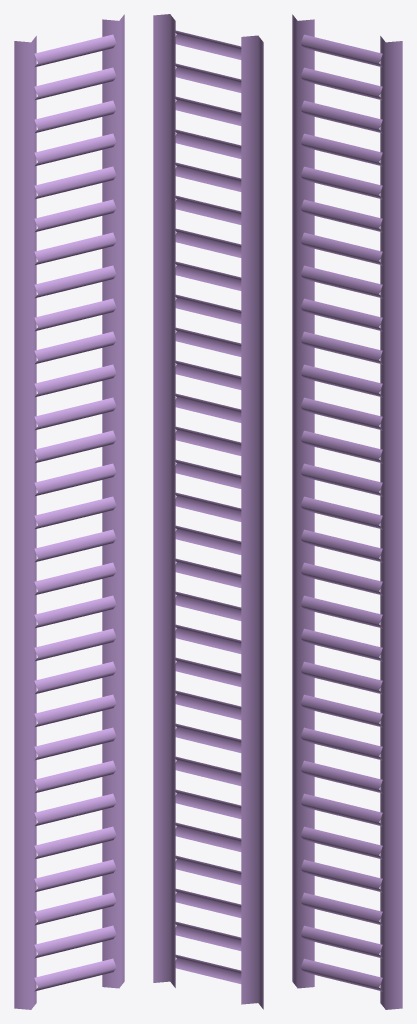
Rendered from G_Background_Ladder_A.fbx.
3 renders of one model, left to right at view 1: azimuth 30°, elevation 25°; view 2: azimuth 150°, elevation 25°; view 3: azimuth 330°, elevation 25°, orthographic.
Parts seen in each view (by area): view 1: G_Background_Ladder_A; view 2: G_Background_Ladder_A; view 3: G_Background_Ladder_A.
Part boxes in pixels (left/top/right/bottom): G_Background_Ladder_A: left=14, top=14, right=124, bottom=1009; G_Background_Ladder_A: left=153, top=14, right=263, bottom=1009; G_Background_Ladder_A: left=292, top=14, right=402, bottom=1009.
Bounding box in the file's own units: 251 × 2100 × 30.29.
